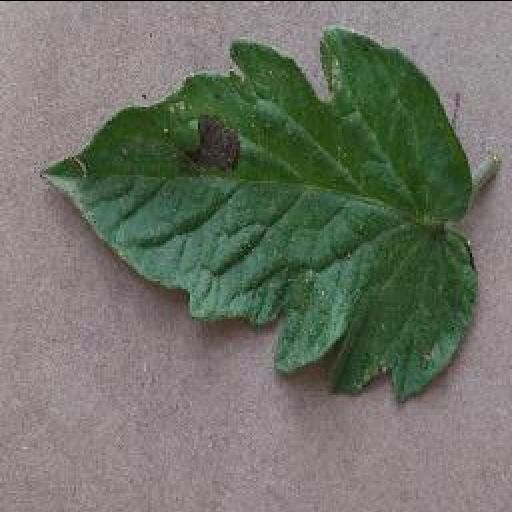Early Blight: (44, 20, 470, 400)
